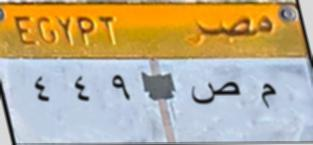4: (28, 71, 56, 113), (71, 71, 96, 108)
9: (109, 67, 133, 106)
meem: (258, 79, 282, 116)
saad: (191, 79, 243, 112)
